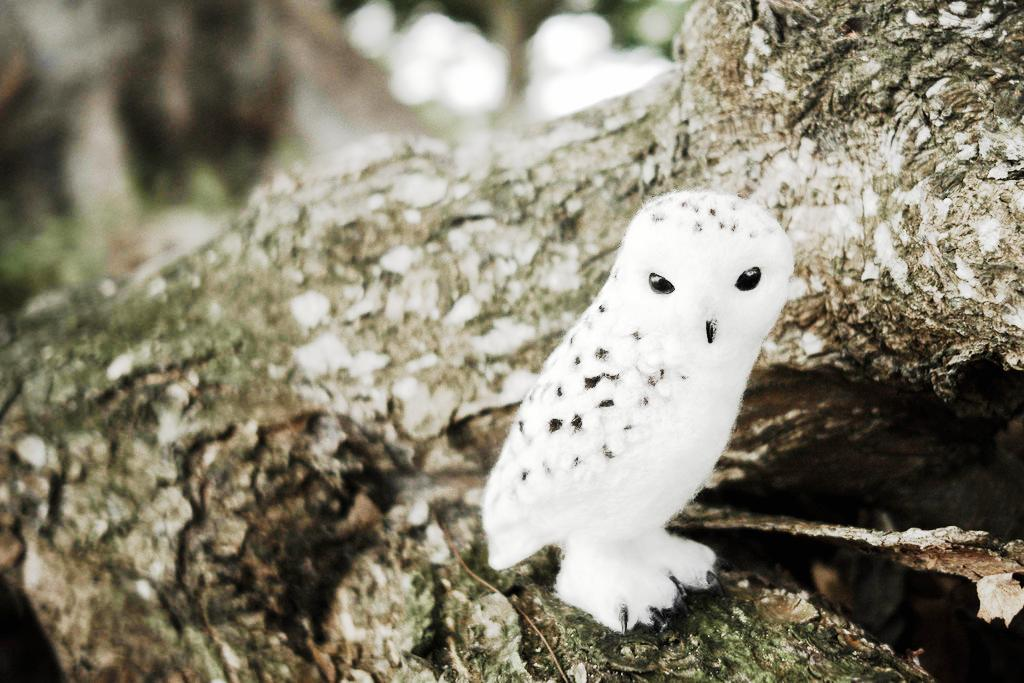Owl: (480, 185, 812, 642)
